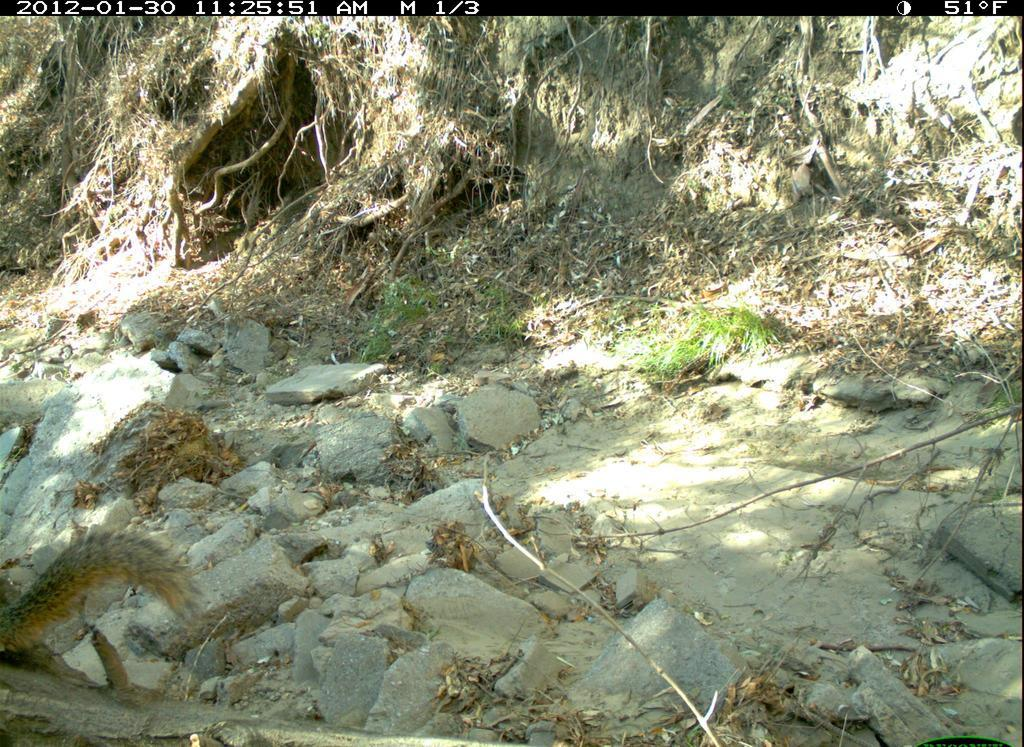squirrel: (21, 521, 209, 673)
